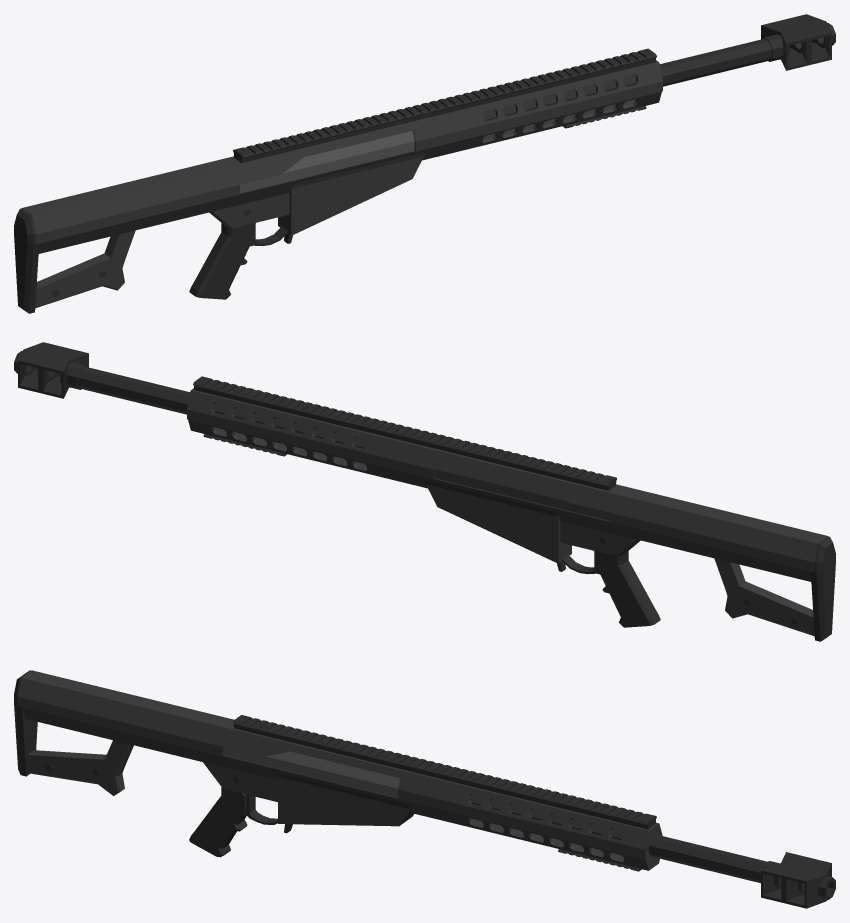
File: SniperRifle4_01.fbx
3 views of the same model, one above another, from view 1: azimuth 30°, elevation 25°; view 2: azimuth 150°, elevation 25°; view 3: azimuth 330°, elevation 25° (orthographic).
Visible parts, largest first — view 1: SniperRifle4_01; view 2: SniperRifle4_01; view 3: SniperRifle4_01.
Boxes of the visible parts, x1,y1,x2,y2 form: SniperRifle4_01: (14,14,835,313); SniperRifle4_01: (14,342,835,641); SniperRifle4_01: (14,670,835,908).
Bounding box in the file's own units: 1.39 × 0.2303 × 0.0749.
